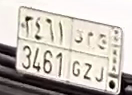1: (55, 20, 66, 78)
3: (21, 15, 34, 71)
4: (32, 15, 44, 73)
6: (42, 17, 55, 75)
G: (71, 27, 84, 80)
J: (95, 32, 109, 84)
Z: (83, 29, 95, 81)
